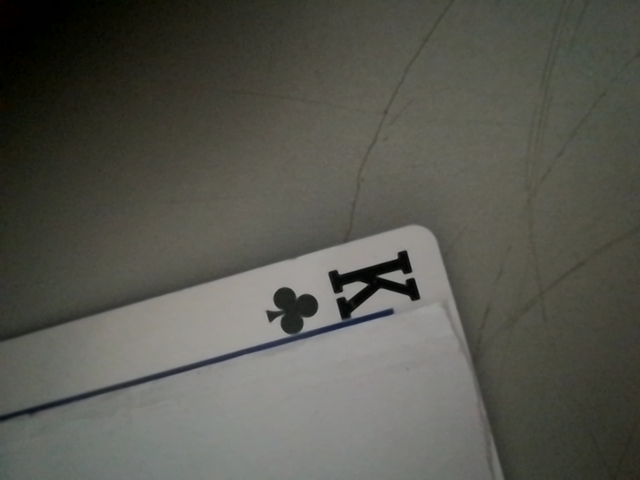mh k: (243, 243, 440, 340)
